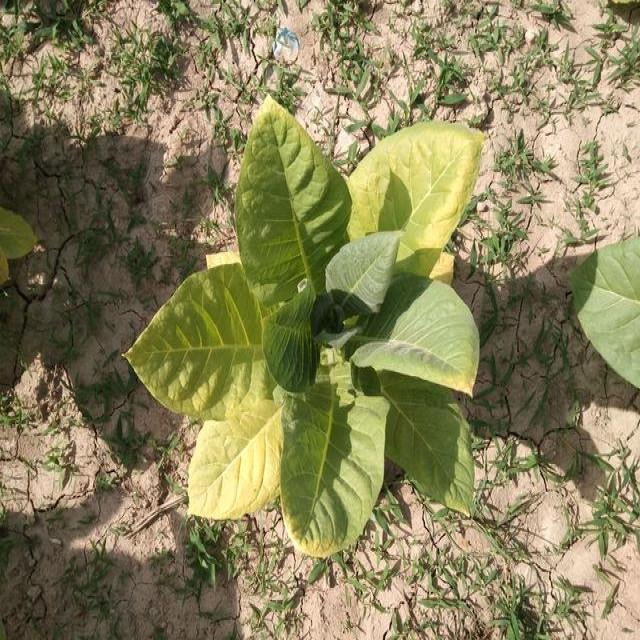crop: (129, 85, 505, 560)
